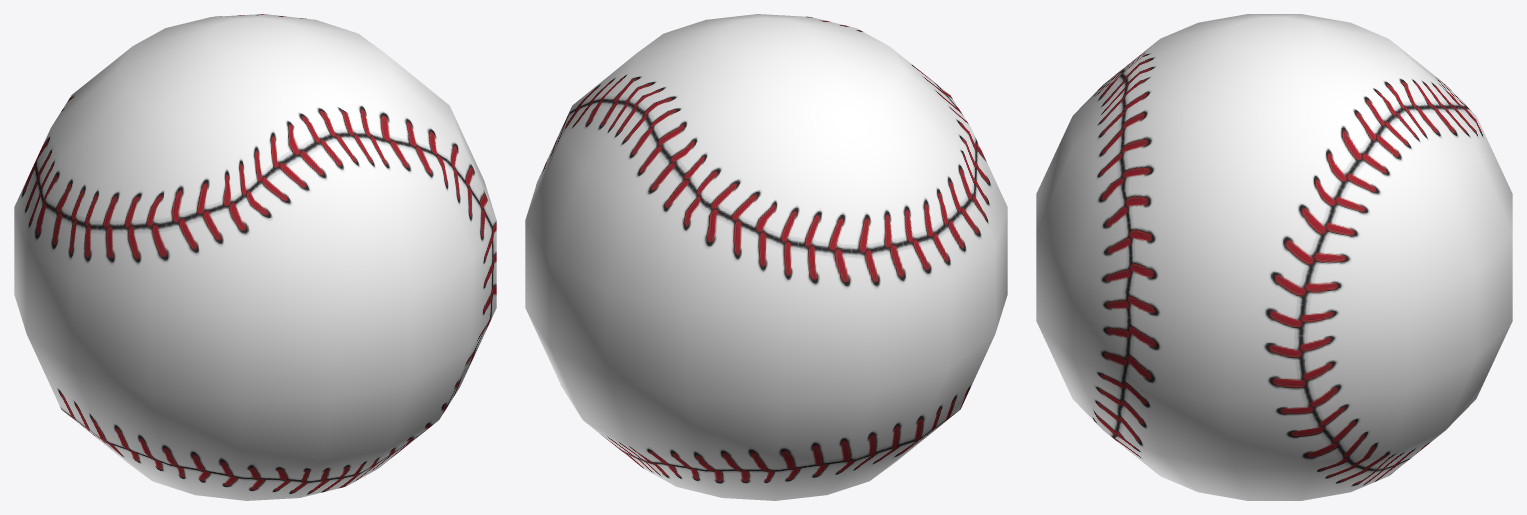
File: BaseBall.fbx
The picture shows the model from 3 angles, left to right: view 1: azimuth 30°, elevation 25°; view 2: azimuth 150°, elevation 25°; view 3: azimuth 270°, elevation 25°; orthographic projection.
Parts seen in each view (by area): view 1: Baseball; view 2: Baseball; view 3: Baseball.
Boxes of the visible parts, <box> form: Baseball: <box>14,14,496,500</box>; Baseball: <box>525,14,1007,500</box>; Baseball: <box>1036,14,1512,500</box>.
Bounding box in the file's own units: 17.3 × 17.99 × 17.3.
Materials: 1 (1 with a texture image).
